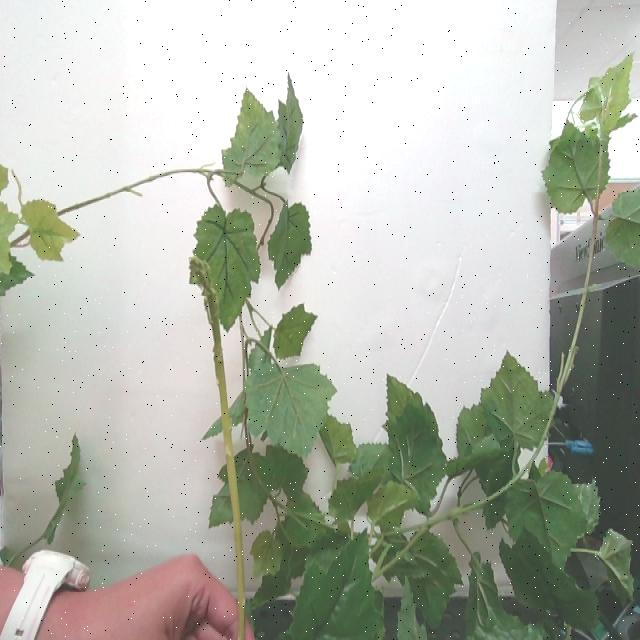aspargus: (197, 255, 246, 640)
